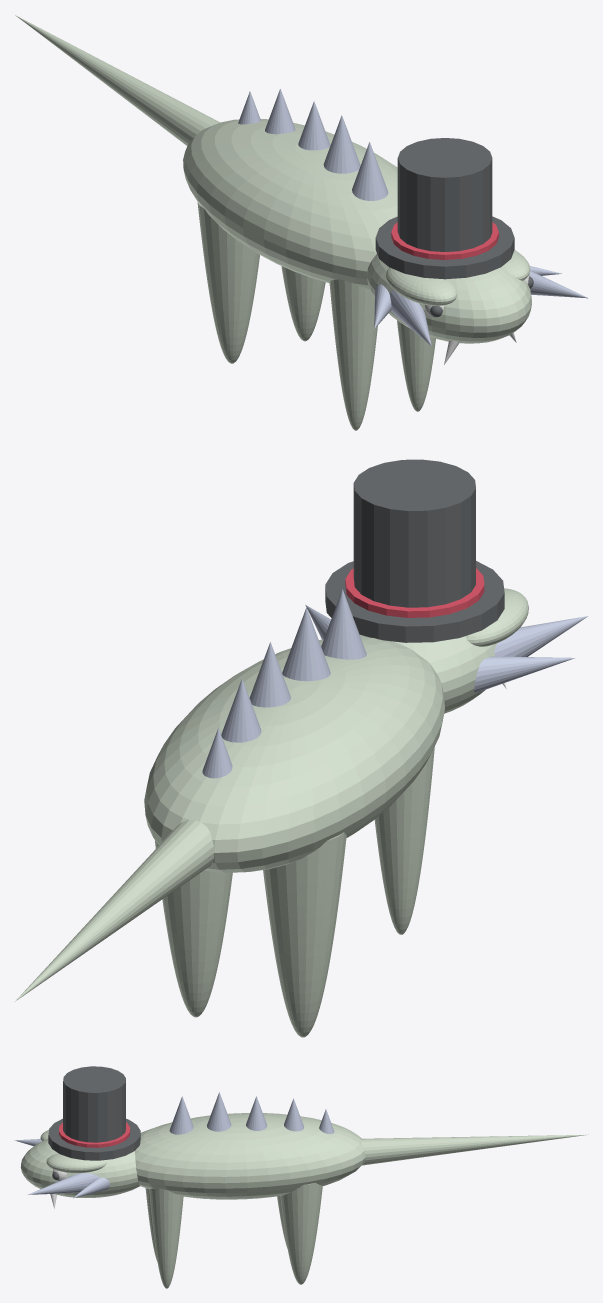
Rendered from backflipBeerend.fbx.
3 renders of one model, top to bottom at view 1: azimuth 30°, elevation 25°; view 2: azimuth 150°, elevation 25°; view 3: azimuth 270°, elevation 25°, orthographic. The views are drawn at different scales.
Visible parts, largest first — view 1: BackflipBerend; view 2: BackflipBerend; view 3: BackflipBerend.
Boxes of the visible parts, x1,y1,x2,y2 form: BackflipBerend: (15, 15, 588, 430); BackflipBerend: (15, 459, 588, 1037); BackflipBerend: (15, 1066, 588, 1288).
Bounding box in the file's own units: 33.34 × 47.64 × 124.
